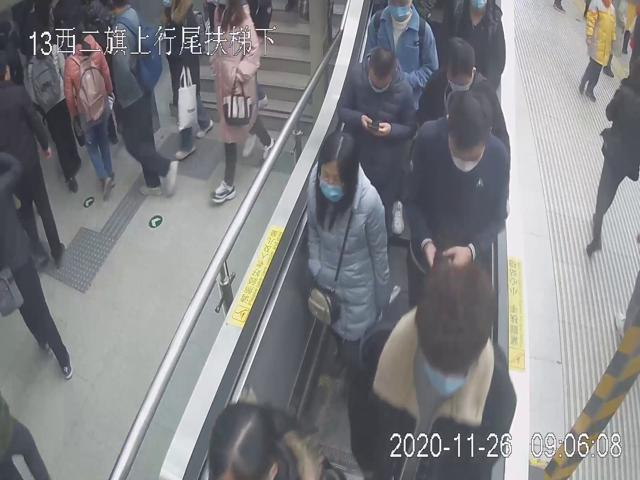person: (346, 255, 519, 479), (403, 89, 512, 309), (303, 129, 393, 394), (336, 46, 416, 216), (416, 36, 505, 154)
